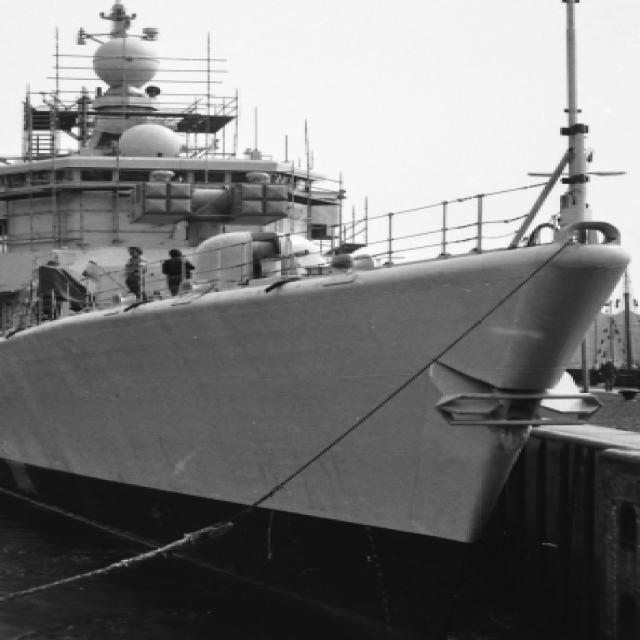Fragata: (1, 1, 632, 640)
